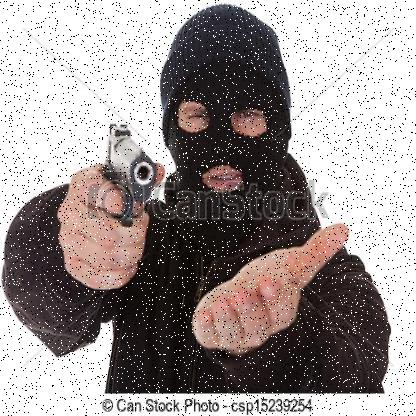pistol: (106, 119, 157, 231)
